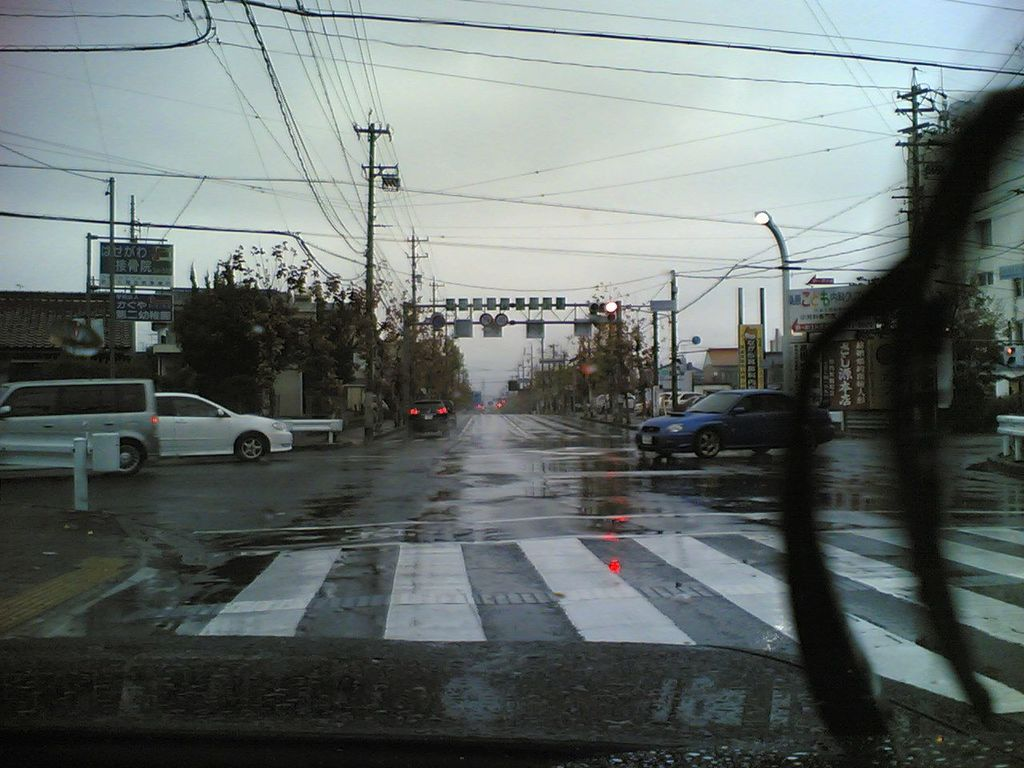Car: (631, 383, 824, 467), (154, 392, 299, 462), (566, 392, 706, 415), (407, 399, 450, 438), (442, 399, 459, 427)
